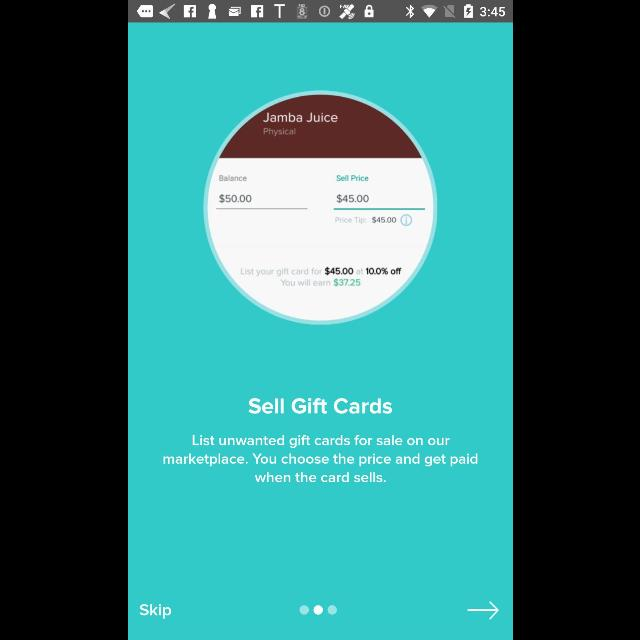icon: (466, 602, 498, 620)
image: (202, 90, 436, 326)
pageindicator: (299, 605, 337, 615)
text: (163, 435, 477, 483), (248, 398, 392, 414), (139, 604, 171, 618)
uppertaskbar: (128, 1, 512, 23)
